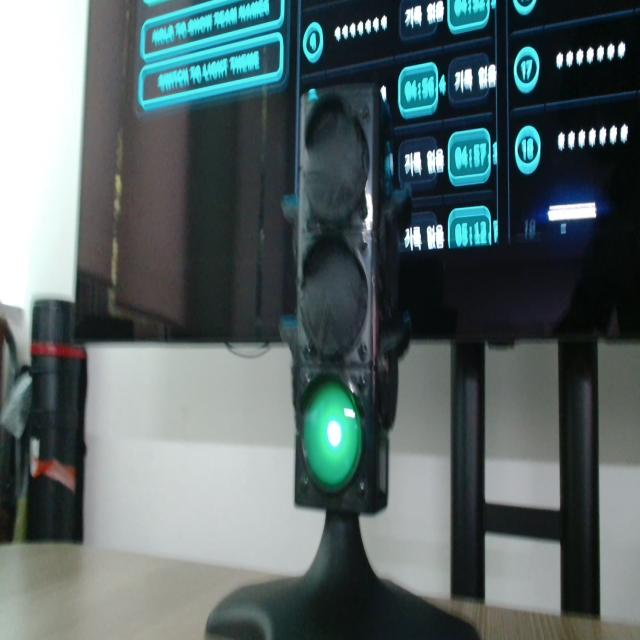green_light: (303, 379, 361, 490)
